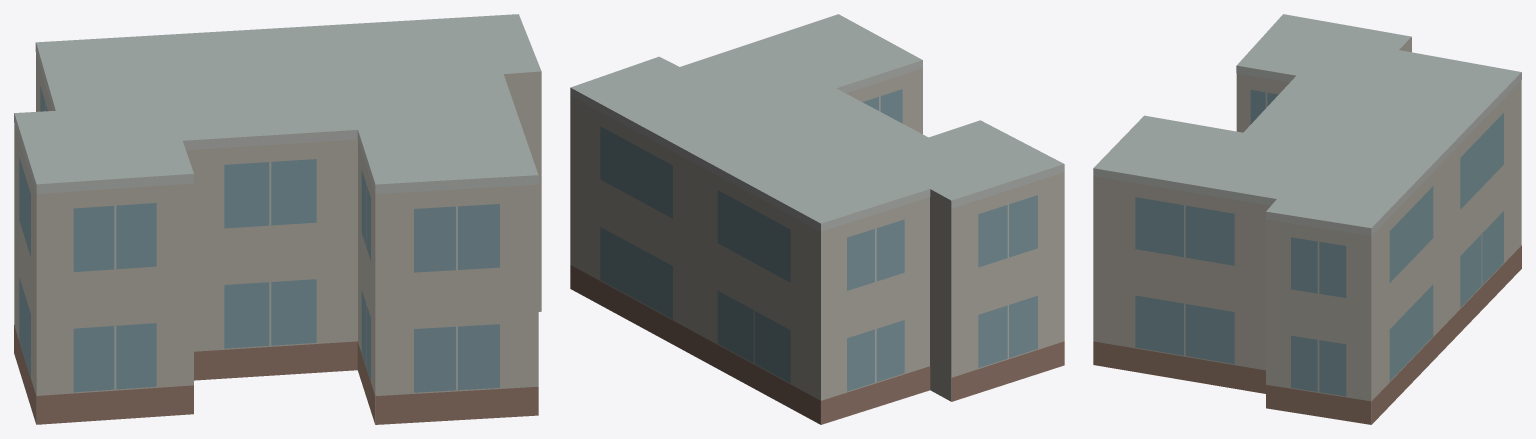
Rendered from survey-upis-32924482.glb.
3 views of the same model, side by side, from view 1: azimuth 30°, elevation 25°; view 2: azimuth 150°, elevation 25°; view 3: azimuth 270°, elevation 25° (orthographic). The views are drawn at different scales.
Parts seen in each view (by area): view 1: survey-upis-32924482.tmp; view 2: survey-upis-32924482.tmp; view 3: survey-upis-32924482.tmp.
Boxes of the visible parts, x1,y1,x2,y2 form: survey-upis-32924482.tmp: (14,14,541,424); survey-upis-32924482.tmp: (570,14,1064,424); survey-upis-32924482.tmp: (1093,14,1521,424).
Bounding box in the file's own units: 14.26 × 6.1 × 12.05.
